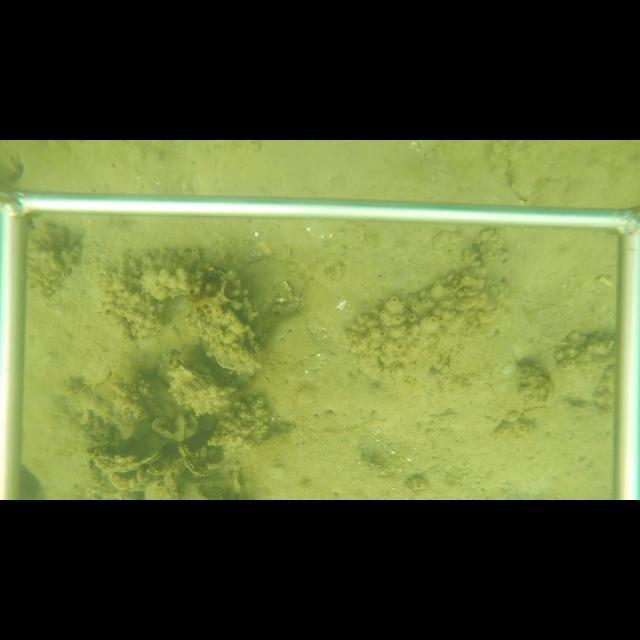Oyster-Closed: (89, 442, 168, 472), (175, 363, 220, 389), (173, 414, 187, 443), (148, 427, 176, 440), (189, 413, 204, 432), (135, 469, 149, 487)
Oyster-Open: (176, 442, 217, 478)
